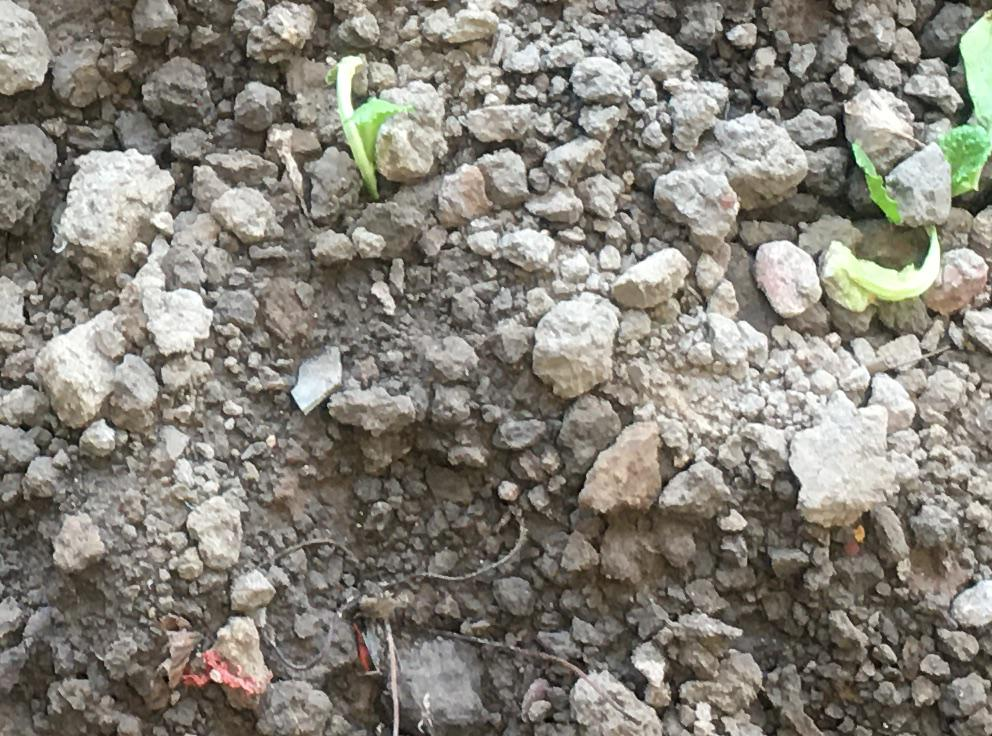block: (793, 387, 892, 532), (65, 148, 167, 275), (695, 108, 809, 206), (31, 313, 119, 418), (534, 293, 620, 397), (581, 418, 664, 517), (650, 156, 734, 245), (882, 139, 949, 229)
